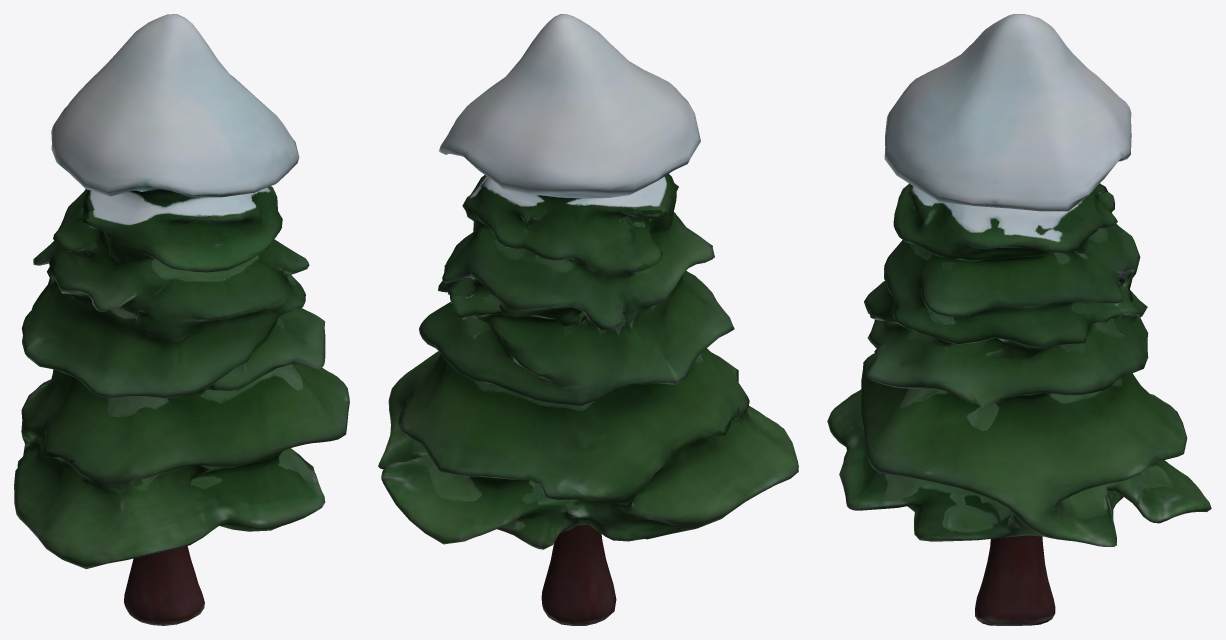
File: 9438cdc7dab6_Low_Poly_Snowy_Pine.fbx
3 views of the same model, side by side, from view 1: azimuth 30°, elevation 25°; view 2: azimuth 150°, elevation 25°; view 3: azimuth 270°, elevation 25° (orthographic). The views are drawn at different scales.
Visible parts, largest first — view 1: mesh; view 2: mesh; view 3: mesh.
Boxes of the visible parts, x1=… form: mesh: x1=14, y1=14, x2=349, y2=625; mesh: x1=378, y1=14, x2=798, y2=625; mesh: x1=827, y1=14, x2=1211, y2=625.
Bounding box in the file's own units: 60.91 × 99.49 × 56.78.
